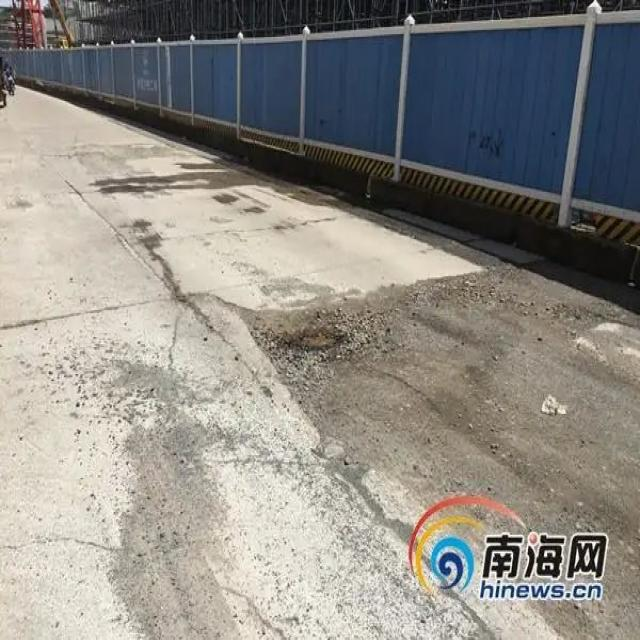Pothole: (248, 318, 382, 369)
